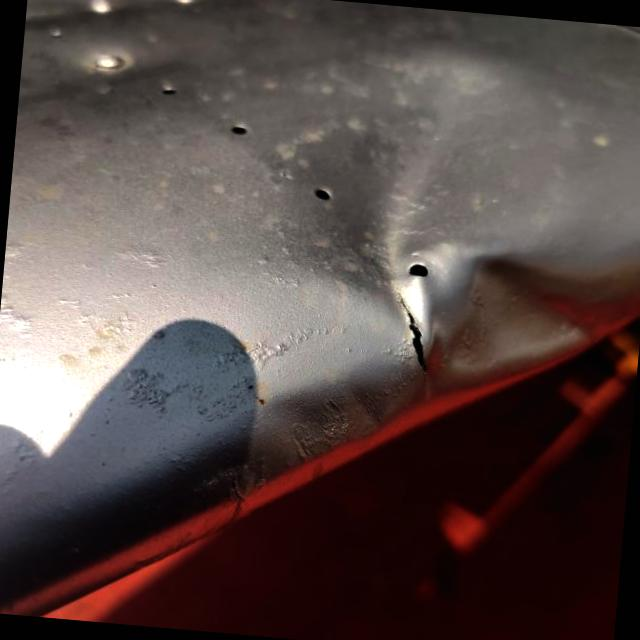crack: (371, 278, 448, 398)
dent: (387, 201, 640, 418), (274, 74, 482, 328)
